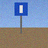sign: (15, 3, 27, 33)
